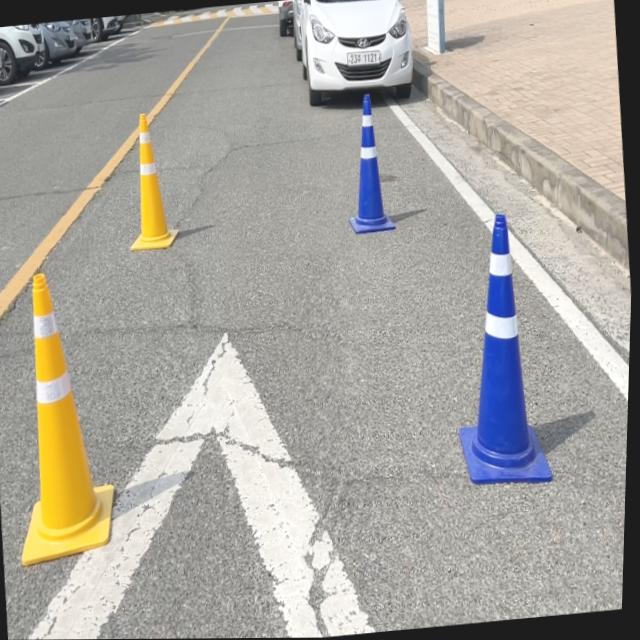b_rub: (462, 213, 555, 484), (350, 93, 397, 232)
y_rub: (24, 272, 116, 565), (132, 112, 179, 250)
